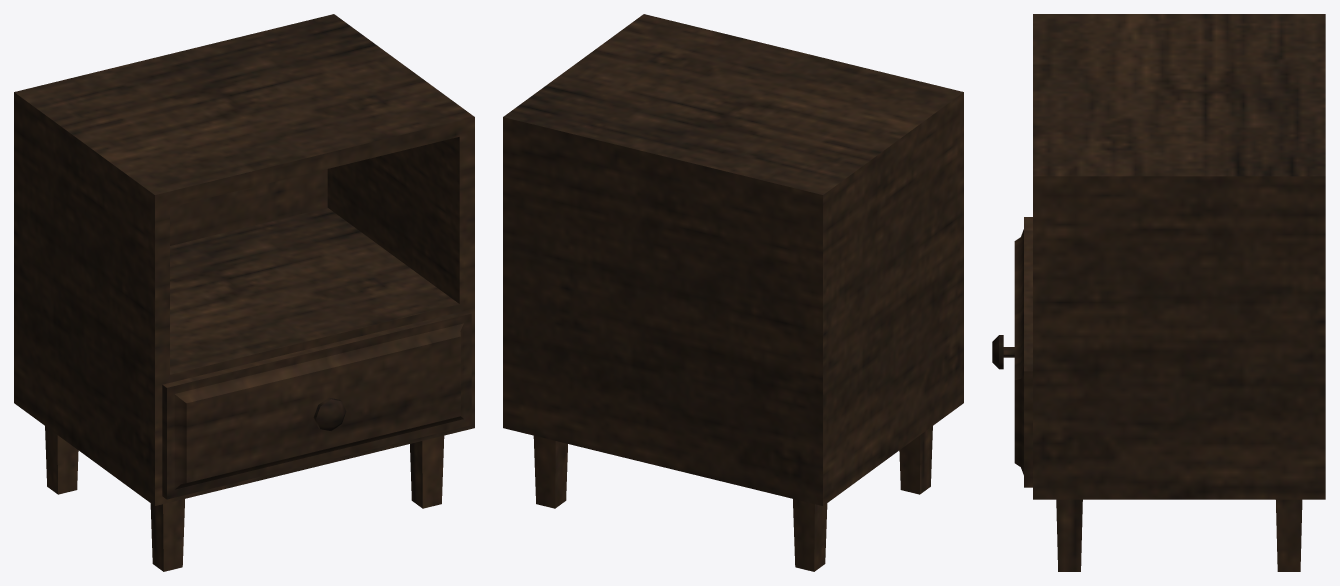
The model's file is bedside_table_2_1.fbx.
3 renders of one model, left to right at view 1: azimuth 30°, elevation 25°; view 2: azimuth 150°, elevation 25°; view 3: azimuth 270°, elevation 25°, orthographic. The views are drawn at different scales.
Visible parts, largest first — view 1: bedside_table_2_1, bedside_table_2_1_drawer; view 2: bedside_table_2_1; view 3: bedside_table_2_1, bedside_table_2_1_drawer.
Part boxes in pixels (<box>): bedside_table_2_1: <box>14,14,474,571</box>; bedside_table_2_1_drawer: <box>162,310,471,499</box>; bedside_table_2_1: <box>503,14,963,571</box>; bedside_table_2_1: <box>1033,14,1325,571</box>; bedside_table_2_1_drawer: <box>992,217,1032,487</box>.
Bounding box in the file's own units: 0.42 × 0.3645 × 0.49.
